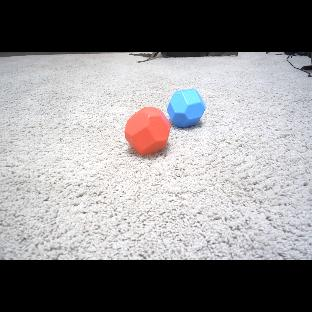V5_BLUE: (168, 89, 205, 127)
V5_RED: (125, 107, 171, 156)
